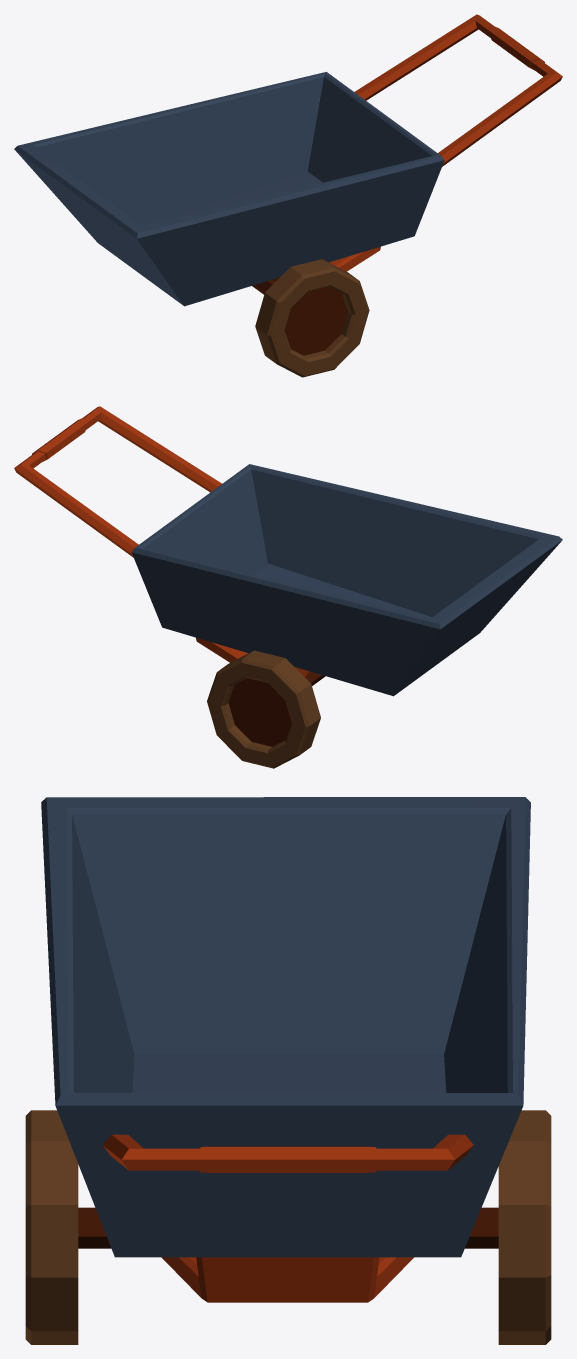
Rendered from cart.glb.
3 views of the same model, one above another, from view 1: azimuth 30°, elevation 25°; view 2: azimuth 150°, elevation 25°; view 3: azimuth 270°, elevation 25° (orthographic). The views are drawn at different scales.
Visible parts, largest first — view 1: cart_b001.001; view 2: cart_b001.001; view 3: cart_b001.001.
Boxes of the visible parts, x1,y1,x2,y2 form: cart_b001.001: (14, 14, 562, 377); cart_b001.001: (14, 406, 562, 768); cart_b001.001: (25, 797, 551, 1344).
Size of the model in its own units: 1.62 by 0.76 by 0.8258.
